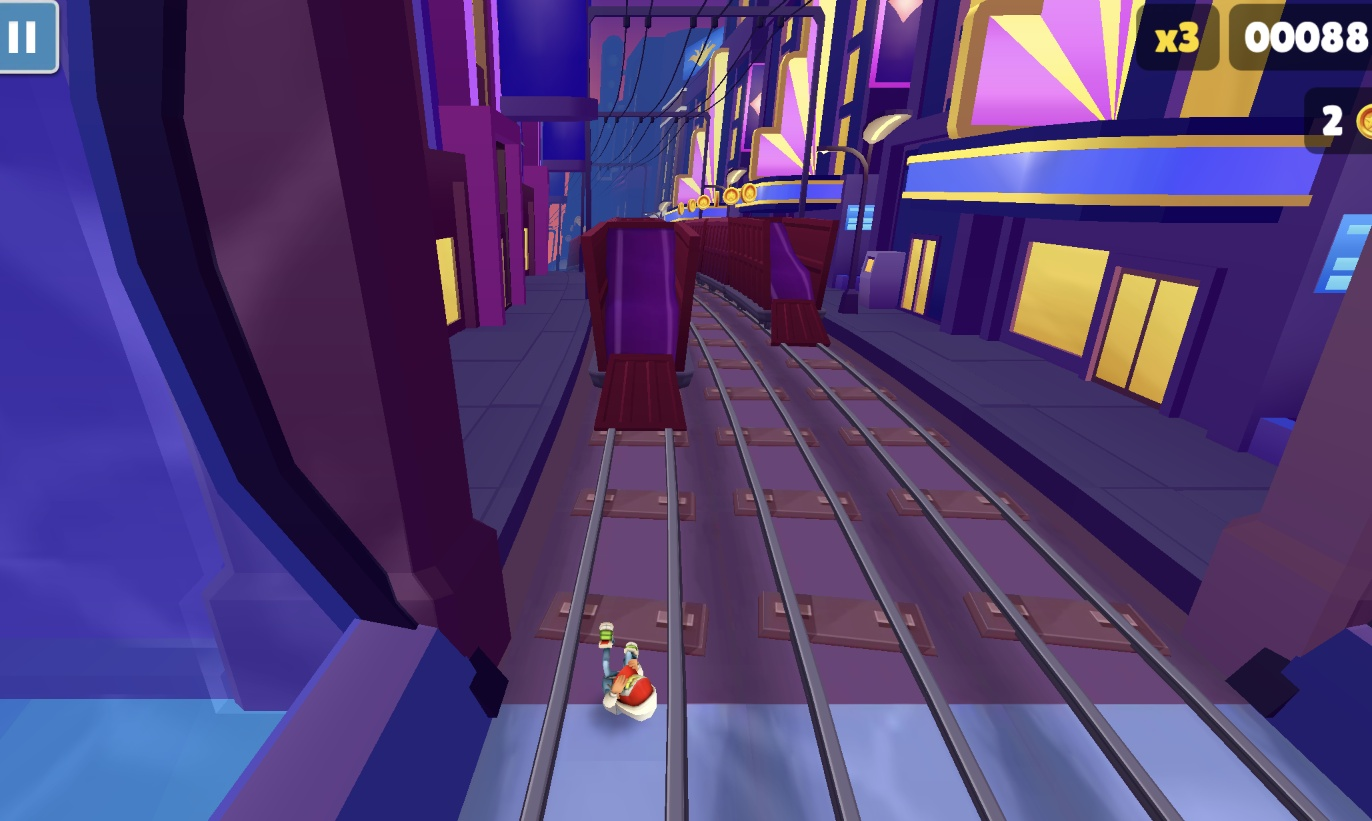train: (578, 217, 698, 436), (684, 213, 840, 352)
